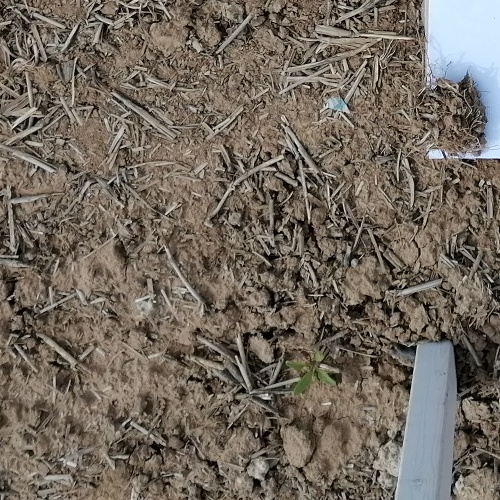beet: (282, 349, 343, 399)
